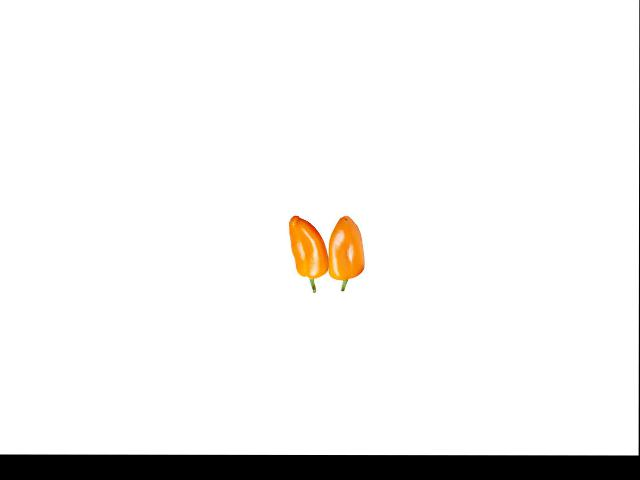bell_pepper: (326, 200, 372, 292)
